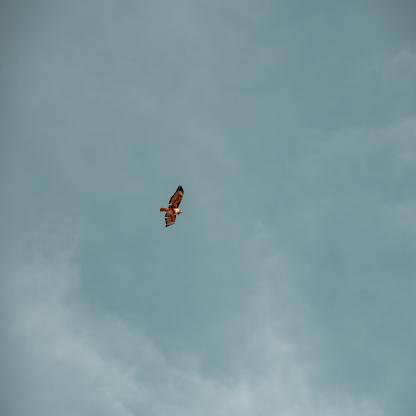bird: (159, 184, 184, 228)
